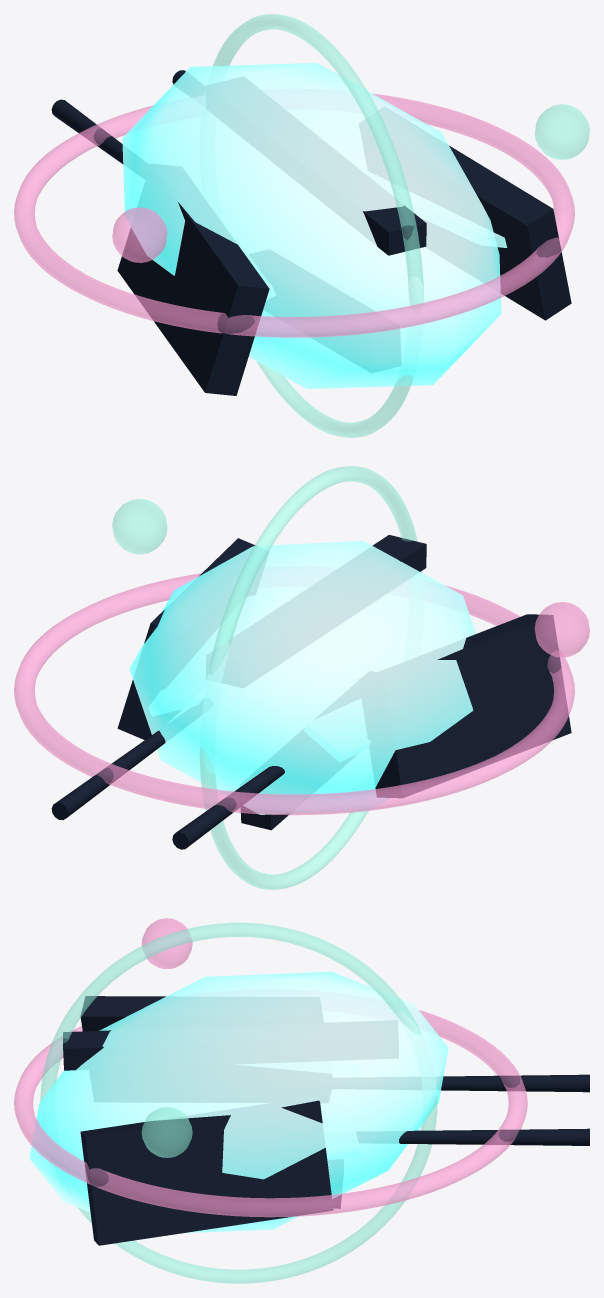
File: glass-echo-drone.glb
3 views of the same model, one above another, from view 1: azimuth 30°, elevation 25°; view 2: azimuth 150°, elevation 25°; view 3: azimuth 270°, elevation 25° (orthographic). The views are drawn at different scales.
Visible parts, largest first — view 1: faceted echo core, forward scanning halo, black rib fin -1, vertical phase halo, black rib fin 1, orbiting light node -1, orbiting light node 1, black dorsal data spine, ion needle -1; view 2: faceted echo core, forward scanning halo, black rib fin -1, vertical phase halo, orbiting light node -1, orbiting light node 1, ion needle 1, ion needle -1, black rib fin 1, black dorsal data spine, ventral phase keel; view 3: faceted echo core, black rib fin 1, forward scanning halo, vertical phase halo, ion needle 1, ion needle -1, orbiting light node -1, orbiting light node 1, black rib fin -1, black dorsal data spine.
Boxes of the visible parts, x1,y1,x2,y2 form: faceted echo core: [122, 63, 501, 388]; forward scanning halo: [14, 93, 574, 337]; black rib fin -1: [117, 201, 269, 395]; vertical phase halo: [213, 14, 423, 437]; black rib fin 1: [449, 145, 571, 320]; orbiting light node -1: [112, 207, 167, 262]; orbiting light node 1: [534, 104, 589, 159]; black dorsal data spine: [362, 205, 426, 255]; ion needle -1: [51, 99, 123, 164]; faceted echo core: [129, 541, 475, 814]; forward scanning halo: [14, 573, 574, 815]; black rib fin -1: [375, 614, 571, 797]; vertical phase halo: [199, 466, 422, 889]; orbiting light node -1: [534, 602, 589, 657]; orbiting light node 1: [112, 499, 167, 554]; ion needle 1: [51, 730, 165, 819]; ion needle -1: [172, 766, 284, 849]; black rib fin 1: [117, 538, 255, 739]; black dorsal data spine: [372, 535, 426, 571]; ventral phase keel: [241, 806, 289, 830]; faceted echo core: [29, 971, 448, 1233]; black rib fin 1: [80, 1100, 333, 1245]; forward scanning halo: [14, 1010, 527, 1217]; vertical phase halo: [40, 922, 437, 1283]; ion needle 1: [399, 1128, 589, 1145]; ion needle -1: [441, 1074, 589, 1092]; orbiting light node -1: [141, 918, 192, 968]; orbiting light node 1: [141, 1107, 192, 1157]; black rib fin -1: [80, 996, 166, 1031]; black dorsal data spine: [63, 1030, 111, 1070].
Size of the model in its own units: 64.4 by 49.77 by 72.2.
